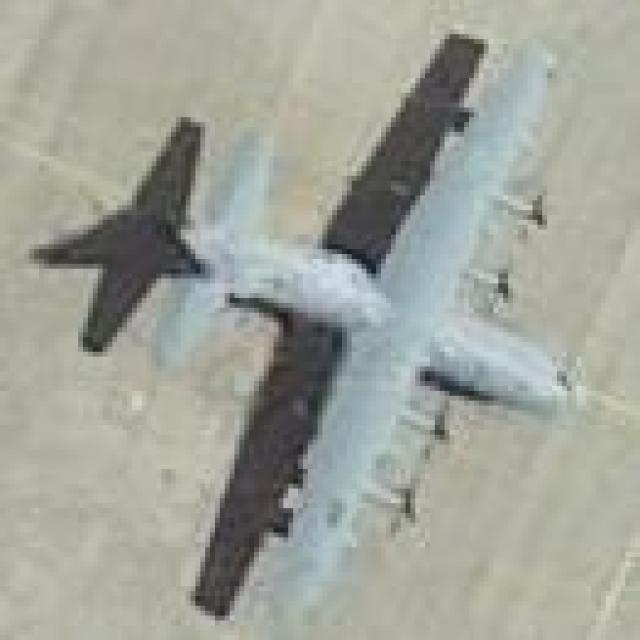C-130_TopDown: (29, 21, 580, 619)
